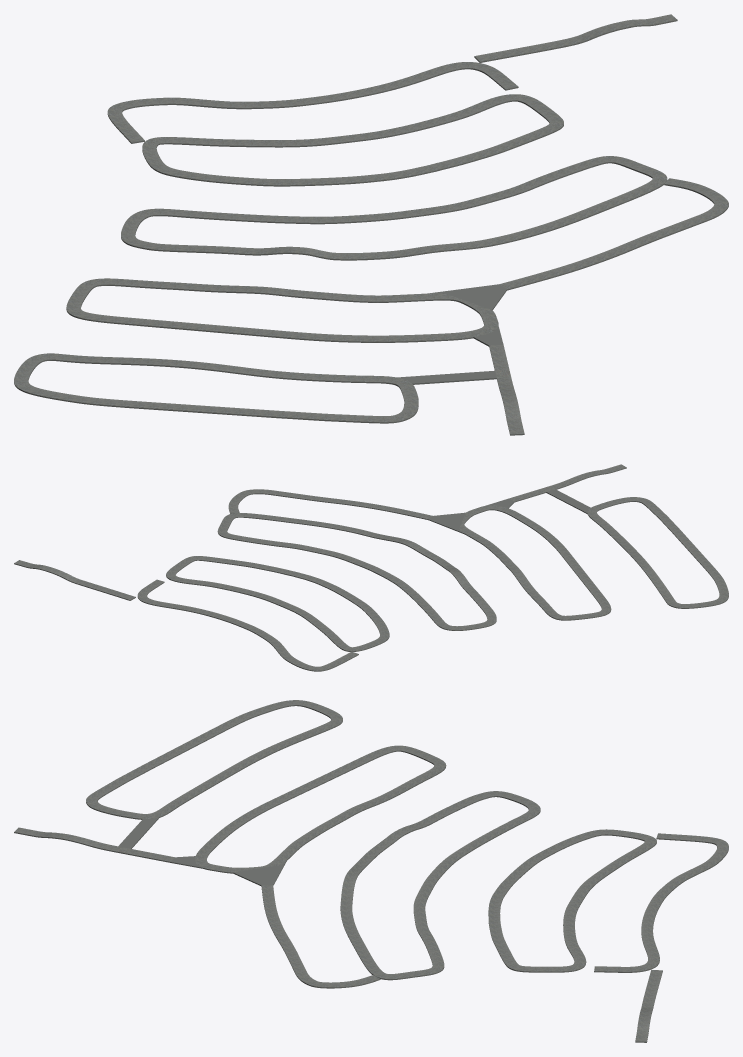
File: Map1.fbx
3 renders of one model, top to bottom at view 1: azimuth 30°, elevation 25°; view 2: azimuth 150°, elevation 25°; view 3: azimuth 270°, elevation 25°, orthographic. The views are drawn at different scales.
Parts seen in each view (by area): view 1: Cube.002, Cube.004, Cube.005, Cube.007, Cube.008; view 2: Cube.002, Cube.004, Cube.005, Cube.007, Cube.008; view 3: Cube.002, Cube.004, Cube.005, Cube.007, Cube.008.
Boxes of the visible parts, <box> form: Cube.002: <box>14,178,728,435</box>; Cube.004: <box>121,156,667,260</box>; Cube.005: <box>142,94,563,186</box>; Cube.007: <box>107,62,518,143</box>; Cube.008: <box>474,14,677,62</box>; Cube.002: <box>228,464,728,620</box>; Cube.004: <box>217,513,496,630</box>; Cube.005: <box>166,556,389,651</box>; Cube.007: <box>137,579,358,671</box>; Cube.008: <box>14,560,135,600</box>; Cube.002: <box>14,700,446,988</box>; Cube.004: <box>340,791,540,980</box>; Cube.005: <box>488,829,656,972</box>; Cube.007: <box>594,833,728,972</box>; Cube.008: <box>635,970,662,1042</box>.
Size of the model in its own units: 13821 by 116 by 12123.
